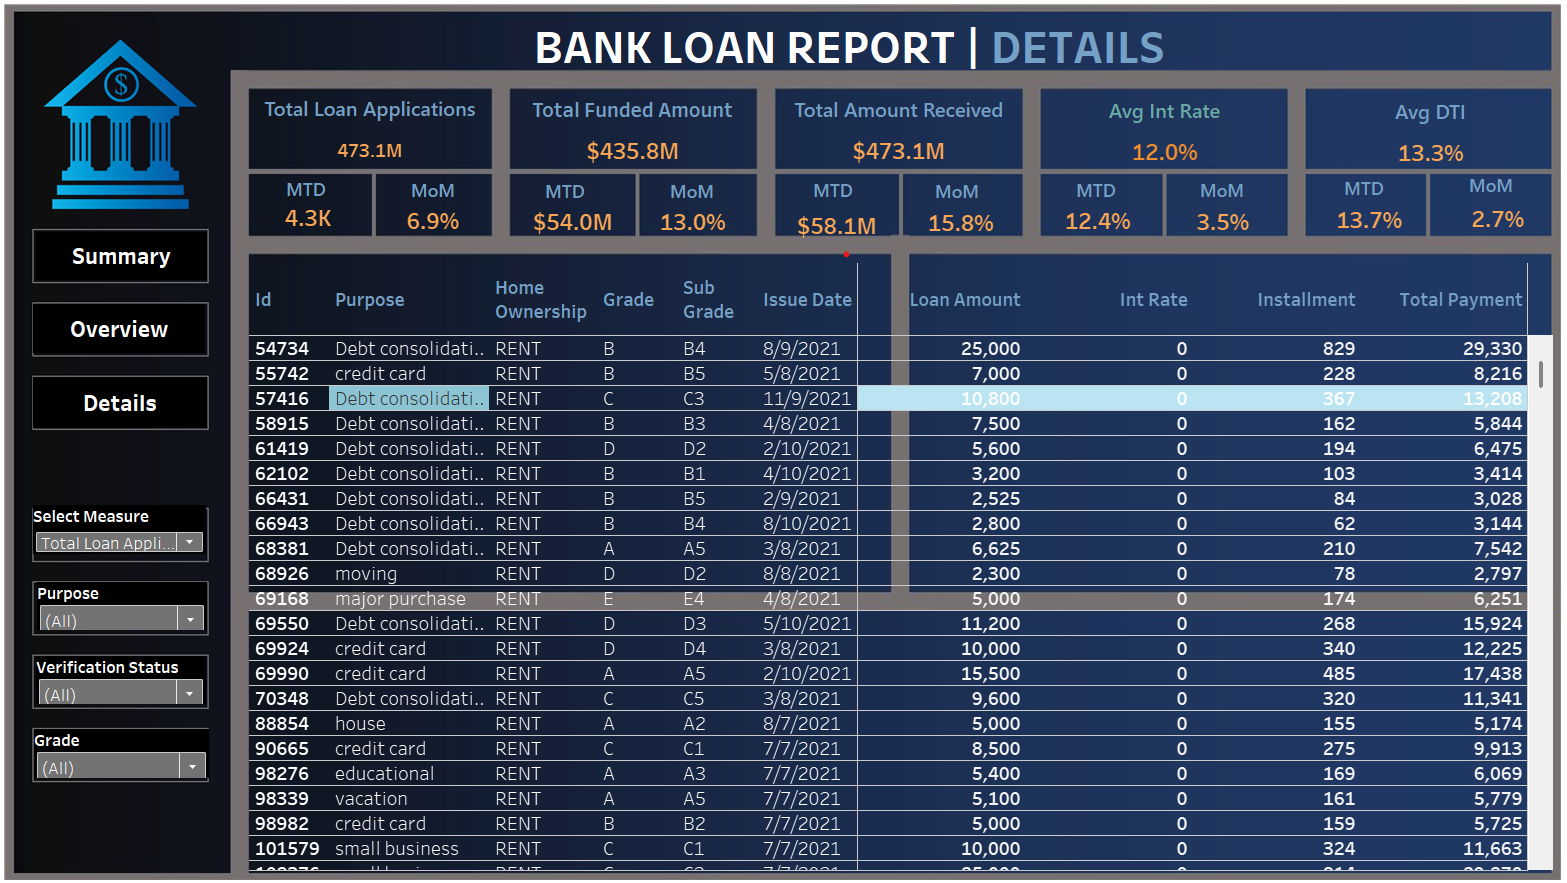

This screenshot's page, from the dashboard's own definition file:
{"tool":"tableau","page":{"name":"Details","canvas":[1600,900],"ordinal":0},"visuals":[{"type":"image","param":"C:/Users/bhima/OneDrive/Desktop/Data Science Project/Module 1/Bank Loan Report/I","box":[8,8,1584,884]},{"type":"text","box":[270,29,1193,48]},{"type":"worksheet","title":"Total Loan Applications","mark":"Automatic","box":[265,98,244,78]},{"type":"worksheet","title":"Total Funded Amount","mark":"Automatic","box":[527,99,245,74]},{"type":"worksheet","title":"Total Amount Received","mark":"Automatic","box":[794,99,244,76]},{"type":"worksheet","title":"Avg Int Rate","mark":"Automatic","box":[1057,100,249,76]},{"type":"worksheet","title":"Avg DTI","mark":"Automatic","box":[1325,101,245,76]},{"type":"text","box":[1458,178,100,30]},{"type":"text","box":[1331,181,100,30]},{"type":"text","box":[273,182,100,30]},{"type":"text","box":[400,183,100,30]},{"type":"text","box":[800,183,100,30]},{"type":"text","box":[1063,183,100,30]},{"type":"text","box":[1189,183,100,30]},{"type":"text","box":[532,184,100,30]},{"type":"text","box":[659,184,100,30]},{"type":"text","box":[924,184,100,30]},{"type":"worksheet","title":"MoM Avg DTI","mark":"Automatic","box":[1470,195,90,63]},{"type":"worksheet","title":"MTD Avg Int Rate","mark":"Automatic","box":[1060,198,109,60]},{"type":"worksheet","title":"MoM Avg Int Rate","mark":"Automatic","box":[1192,198,95,61]},{"type":"worksheet","title":"MTD Avg DTI","mark":"Automatic","box":[1349,198,73,57]},{"type":"worksheet","title":"MTD Total Loan Applications","mark":"Automatic","box":[281,199,88,51]},{"type":"worksheet","title":"MTD Total Amount  Recevied","mark":"Automatic","box":[797,199,113,68]},{"type":"worksheet","title":"MoM Total Loan Applications","mark":"Automatic","box":[398,200,103,56]},{"type":"worksheet","title":"MoM Total  Amount Received","mark":"Automatic","box":[934,203,88,54]},{"type":"worksheet","title":"MTD Total Funded Amount","mark":"Automatic","box":[540,204,99,50]},{"type":"worksheet","title":"MoM Total Funded Amount","mark":"Automatic","box":[667,204,85,49]},{"type":"dashboard-object","box":[53,240,171,48]},{"type":"worksheet","title":"Details Tab","mark":"Automatic","rows":["id","purpose","home_ownership","grade","sub_grade","issue_date"],"box":[266,271,1304,608]},{"type":"dashboard-object","box":[50,312,172,49]},{"type":"dashboard-object","box":[50,385,174,51]},{"type":"parameter","param":"[Parameters].[Parameter 1]","box":[50,513,173,49]},{"type":"filter","title":"Total Loan Applications","param":"[federated.0bea7po1puaagk1dfoyjl1ghiif2].[none:purpose:nk]","box":[54,590,170,48]},{"type":"filter","title":"Total Loan Applications","param":"[federated.0bea7po1puaagk1dfoyjl1ghiif2].[none:verification_status:nk]","box":[53,664,170,48]},{"type":"filter","title":"Total Loan Applications","param":"[federated.0bea7po1puaagk1dfoyjl1ghiif2].[none:grade:nk]","box":[51,737,175,49]}]}

Visuals, with their boxes in screenshot pixels (x1, y1, x2, y2), scaled from the page's 1600x900 canvas onto the 1567x883 screenshot:
image: BBox(8, 8, 1559, 875)
text: BBox(264, 28, 1433, 76)
"Total Loan Applications" worksheet: BBox(260, 96, 499, 173)
"Total Funded Amount" worksheet: BBox(516, 97, 756, 170)
"Total Amount Received" worksheet: BBox(778, 97, 1017, 172)
"Avg Int Rate" worksheet: BBox(1035, 98, 1279, 173)
"Avg DTI" worksheet: BBox(1298, 99, 1538, 174)
text: BBox(1428, 175, 1526, 204)
text: BBox(1304, 178, 1401, 207)
text: BBox(267, 179, 365, 208)
text: BBox(392, 180, 490, 209)
text: BBox(784, 180, 881, 209)
text: BBox(1041, 180, 1139, 209)
text: BBox(1164, 180, 1262, 209)
text: BBox(521, 181, 619, 210)
text: BBox(645, 181, 743, 210)
text: BBox(905, 181, 1003, 210)
"MoM Avg DTI" worksheet: BBox(1440, 191, 1528, 253)
"MTD Avg Int Rate" worksheet: BBox(1038, 194, 1145, 253)
"MoM Avg Int Rate" worksheet: BBox(1167, 194, 1260, 254)
"MTD Avg DTI" worksheet: BBox(1321, 194, 1393, 250)
"MTD Total Loan Applications" worksheet: BBox(275, 195, 361, 245)
"MTD Total Amount  Recevied" worksheet: BBox(781, 195, 891, 262)
"MoM Total Loan Applications" worksheet: BBox(390, 196, 491, 251)
"MoM Total  Amount Received" worksheet: BBox(915, 199, 1001, 252)
"MTD Total Funded Amount" worksheet: BBox(529, 200, 626, 249)
"MoM Total Funded Amount" worksheet: BBox(653, 200, 736, 248)
dashboard-object: BBox(52, 235, 219, 283)
"Details Tab" worksheet: BBox(261, 266, 1538, 862)
dashboard-object: BBox(49, 306, 217, 354)
dashboard-object: BBox(49, 378, 219, 428)
parameter: BBox(49, 503, 218, 551)
"Total Loan Applications" filter: BBox(53, 579, 219, 626)
"Total Loan Applications" filter: BBox(52, 651, 218, 699)
"Total Loan Applications" filter: BBox(50, 723, 221, 771)
